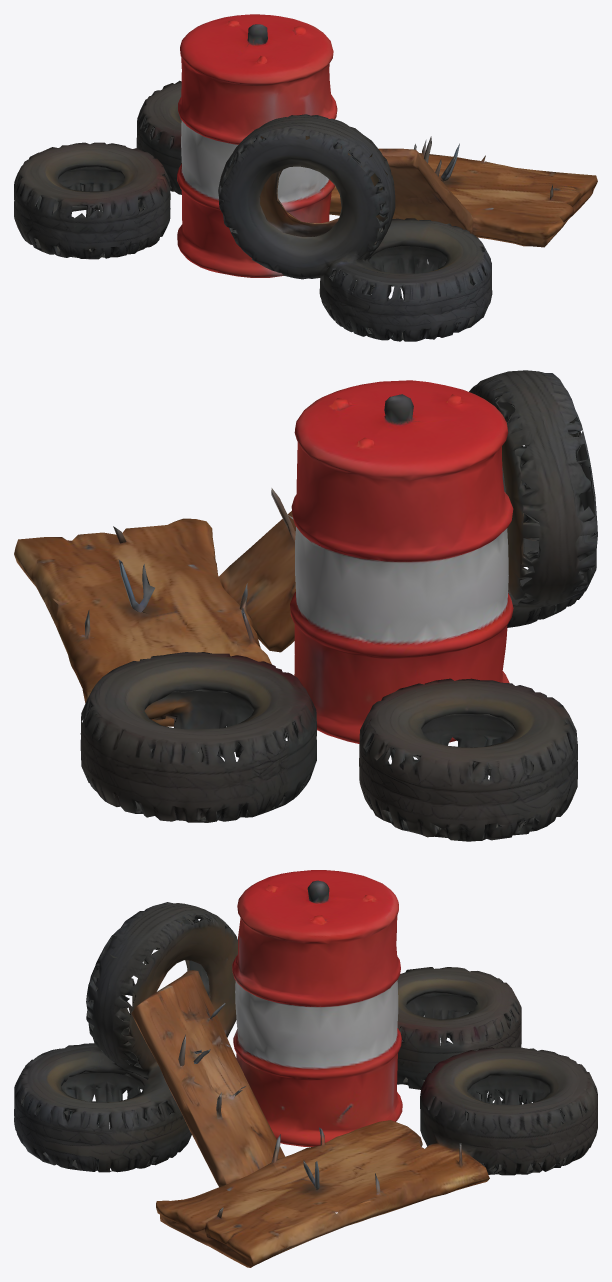
The model's file is checkpoint.glb.
3 renders of one model, top to bottom at view 1: azimuth 30°, elevation 25°; view 2: azimuth 150°, elevation 25°; view 3: azimuth 270°, elevation 25°, orthographic. The views are drawn at different scales.
Visible parts, largest first — view 1: tripo_node_3bf63fe8-53f4-4426-bded-5c4d30a5808d; view 2: tripo_node_3bf63fe8-53f4-4426-bded-5c4d30a5808d; view 3: tripo_node_3bf63fe8-53f4-4426-bded-5c4d30a5808d.
Part boxes in pixels (x1,y1,x2,y2): tripo_node_3bf63fe8-53f4-4426-bded-5c4d30a5808d: (14, 14, 597, 341); tripo_node_3bf63fe8-53f4-4426-bded-5c4d30a5808d: (14, 370, 597, 841); tripo_node_3bf63fe8-53f4-4426-bded-5c4d30a5808d: (14, 870, 597, 1267).
Bounding box in the file's own units: 7 × 3.06 × 6.96.
1 material, 1 textured.
